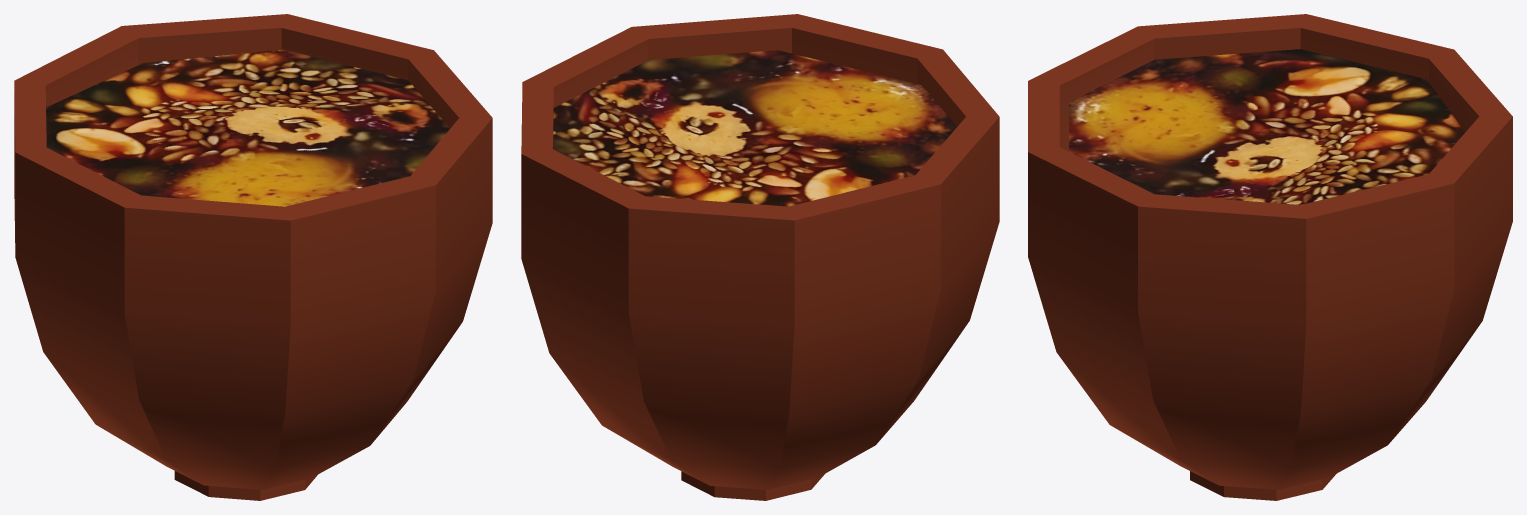
File: Ssanghwacha.fbx
3 renders of one model, left to right at view 1: azimuth 30°, elevation 25°; view 2: azimuth 150°, elevation 25°; view 3: azimuth 270°, elevation 25°, orthographic.
Visible parts, largest first — view 1: Cup, SsanghwaTea; view 2: Cup, SsanghwaTea; view 3: Cup, SsanghwaTea.
Boxes of the visible parts, bbox=[...] form: Cup: bbox=[14, 14, 492, 500]; SsanghwaTea: bbox=[46, 49, 450, 206]; Cup: bbox=[521, 14, 999, 500]; SsanghwaTea: bbox=[553, 50, 956, 206]; Cup: bbox=[1028, 14, 1512, 500]; SsanghwaTea: bbox=[1069, 49, 1465, 204].
Size of the model in its own units: 57.95 by 48.64 by 57.93.
Materials: 2 (1 with a texture image).
